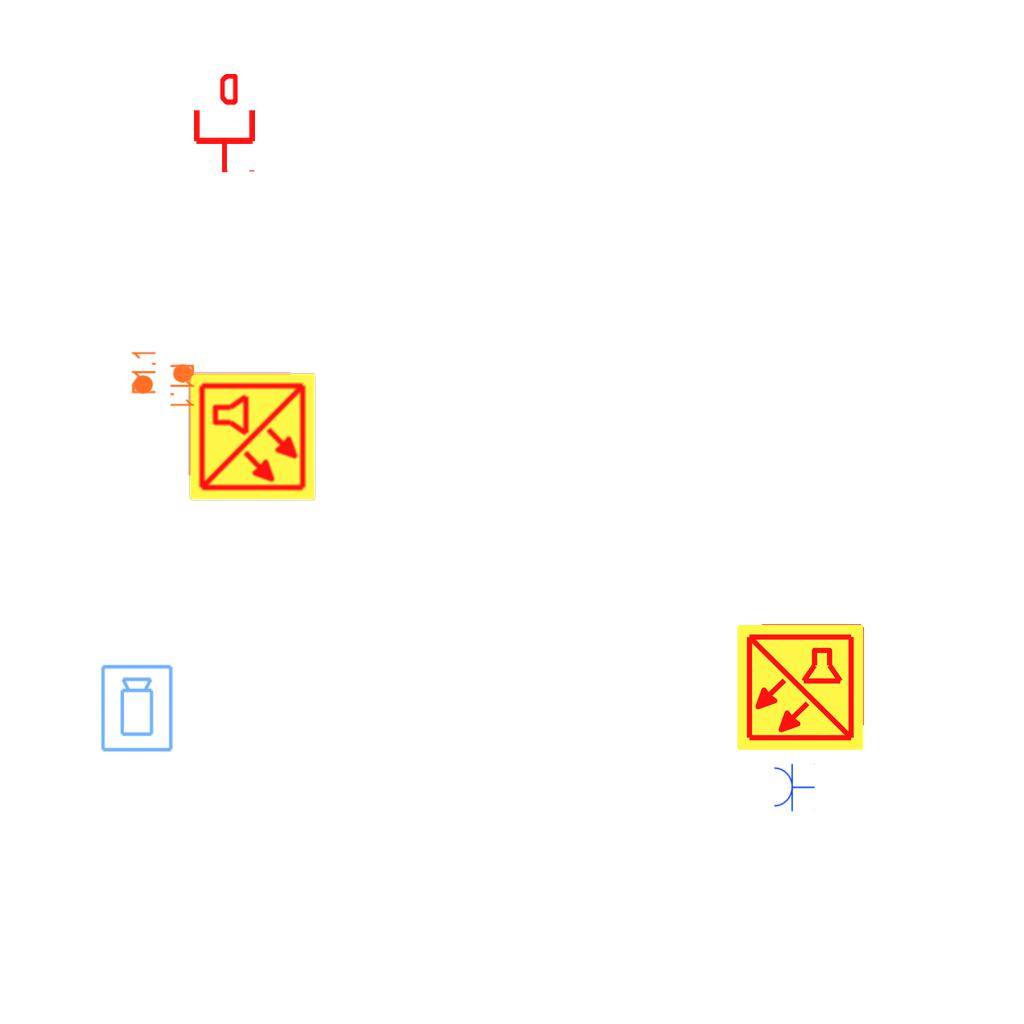Datenanschluss_einfach: (190, 74, 259, 174)
Downlight_LED_Einbauleuchten_Flur: (130, 349, 194, 395), (132, 363, 196, 409)
KFO_Kamera_mit_Festobjektiv: (99, 663, 176, 754)
OKW_Multisensormelder_(Kombination_optischer_Rauch-Kahlenmonoxid_Waerme-Melder): (186, 371, 318, 503), (734, 621, 866, 753)
Schukosteckdose_einfach: (772, 762, 815, 812)
